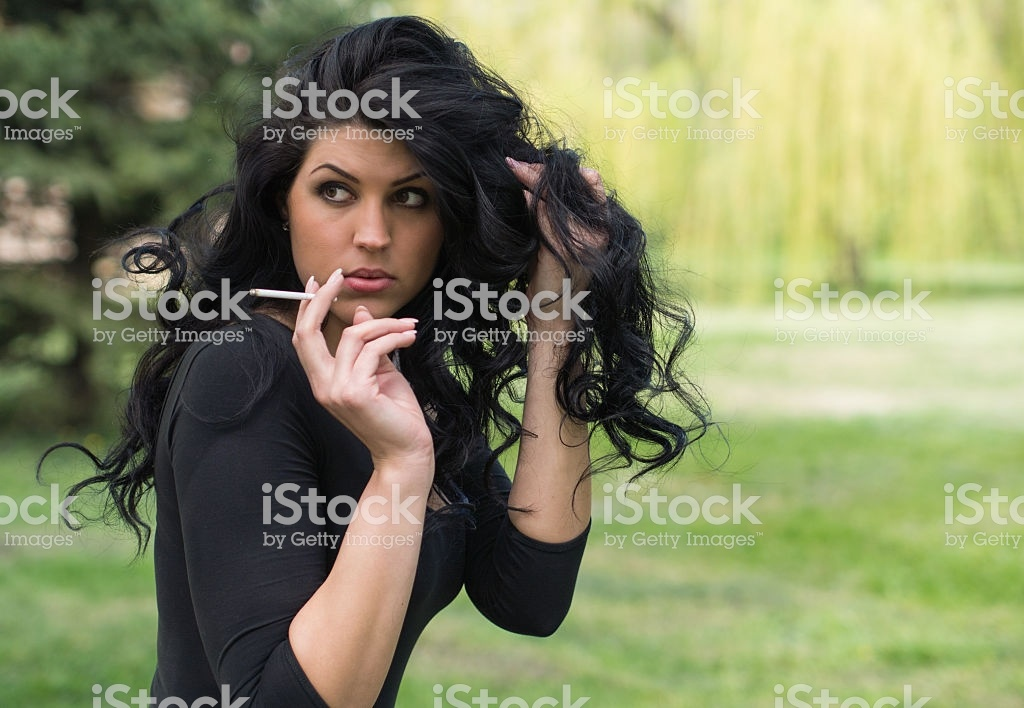sigaretta: (245, 286, 343, 307)
